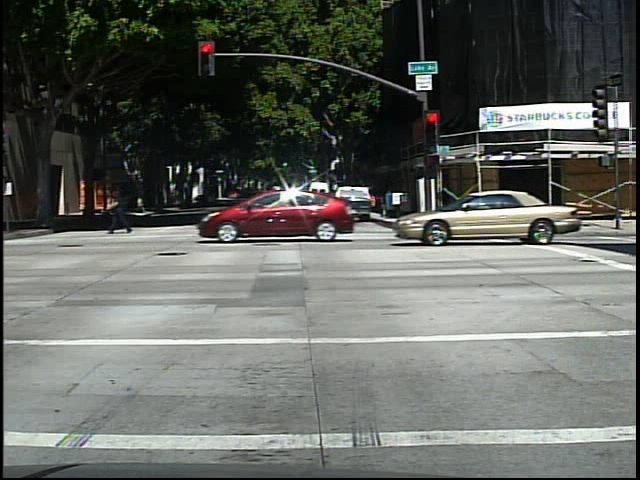person: (104, 184, 134, 236)
